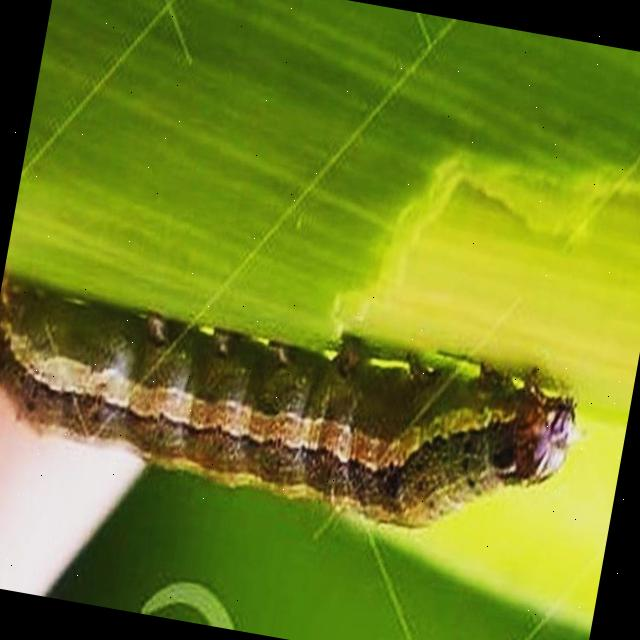worm: (1, 266, 588, 560)
